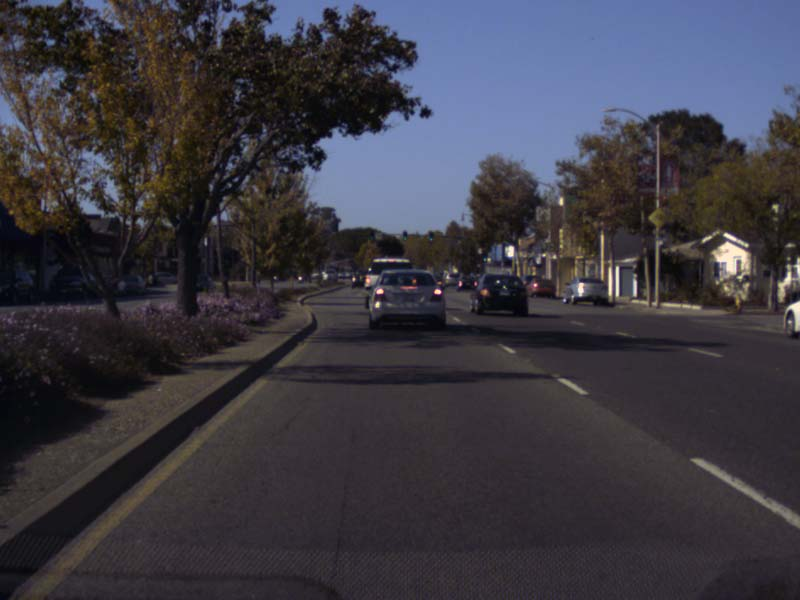Green: (428, 231, 433, 243), (368, 230, 374, 240), (482, 250, 487, 262), (402, 230, 407, 241)
